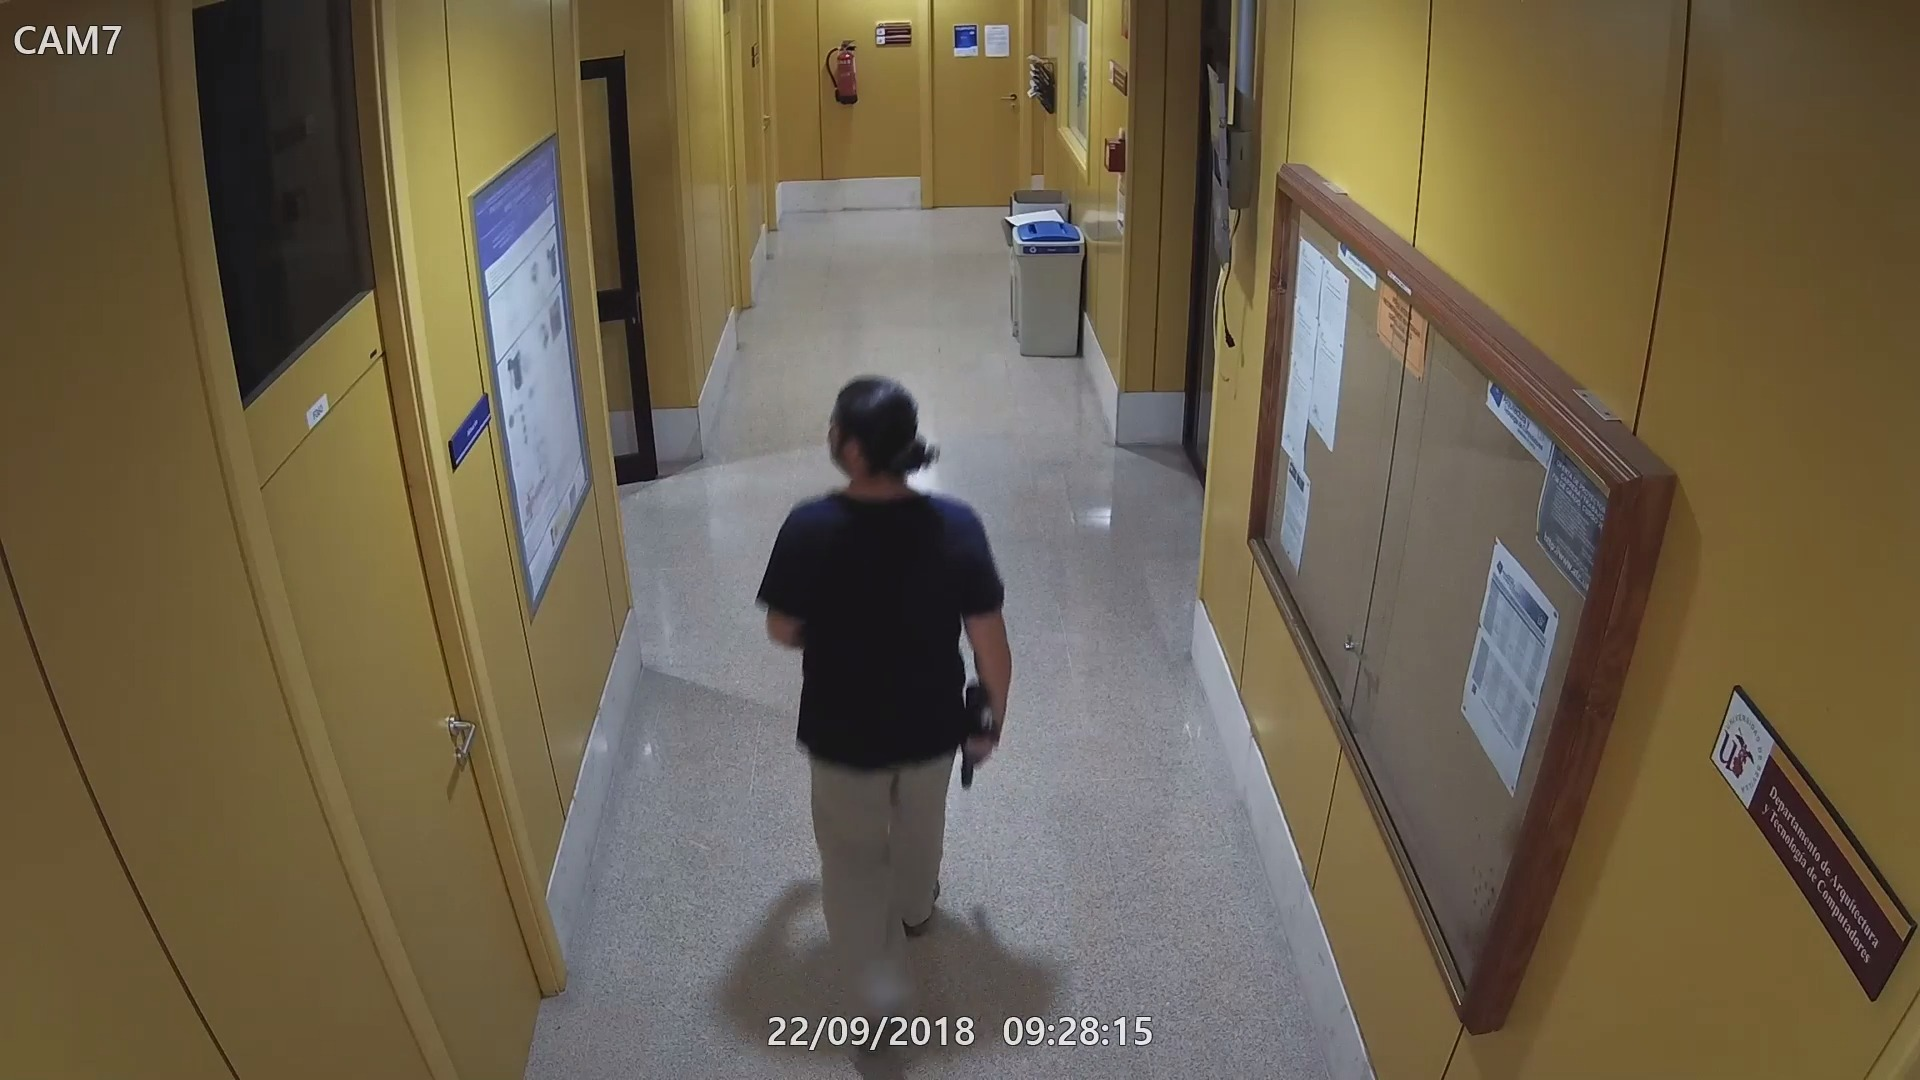Short_rifle: (959, 676, 1004, 787)
